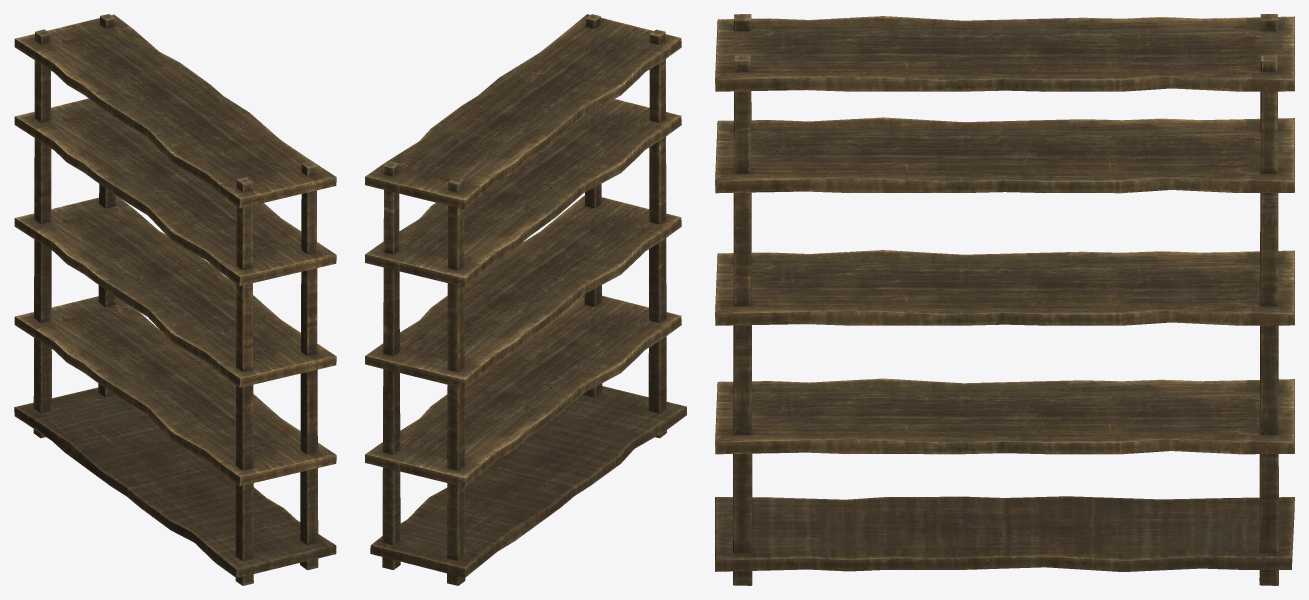
The model's file is SM_WoodenStand_Big.fbx.
3 views of the same model, side by side, from view 1: azimuth 30°, elevation 25°; view 2: azimuth 150°, elevation 25°; view 3: azimuth 270°, elevation 25° (orthographic). The views are drawn at different scales.
Visible parts, largest first — view 1: SM_WoodenStand_Big_LOD0; view 2: SM_WoodenStand_Big_LOD0; view 3: SM_WoodenStand_Big_LOD0.
Boxes of the visible parts, left/top/right/bottom form: SM_WoodenStand_Big_LOD0: left=14, top=14, right=336, bottom=585; SM_WoodenStand_Big_LOD0: left=365, top=14, right=686, bottom=585; SM_WoodenStand_Big_LOD0: left=715, top=14, right=1294, bottom=585.
Size of the model in its own units: 41.78 by 159 by 159.
Materials: 1 (1 with a texture image).
